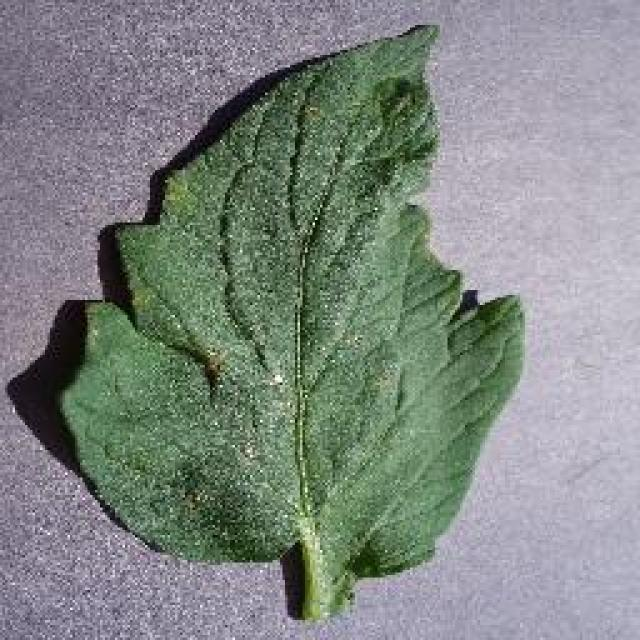Tomato Septoria spot leaf: (53, 16, 525, 579)
